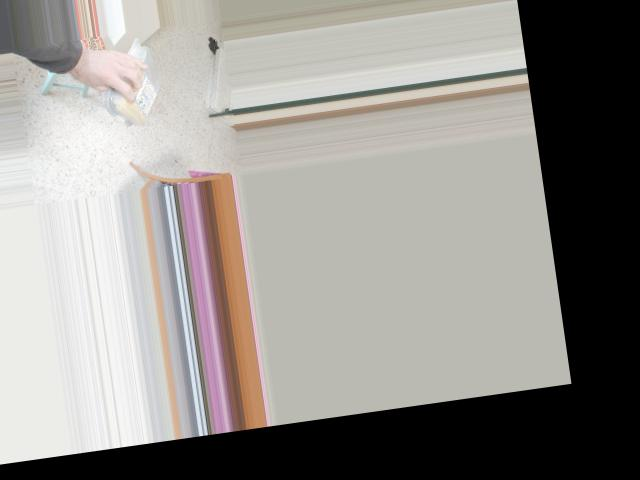cheese: (110, 42, 162, 136)
